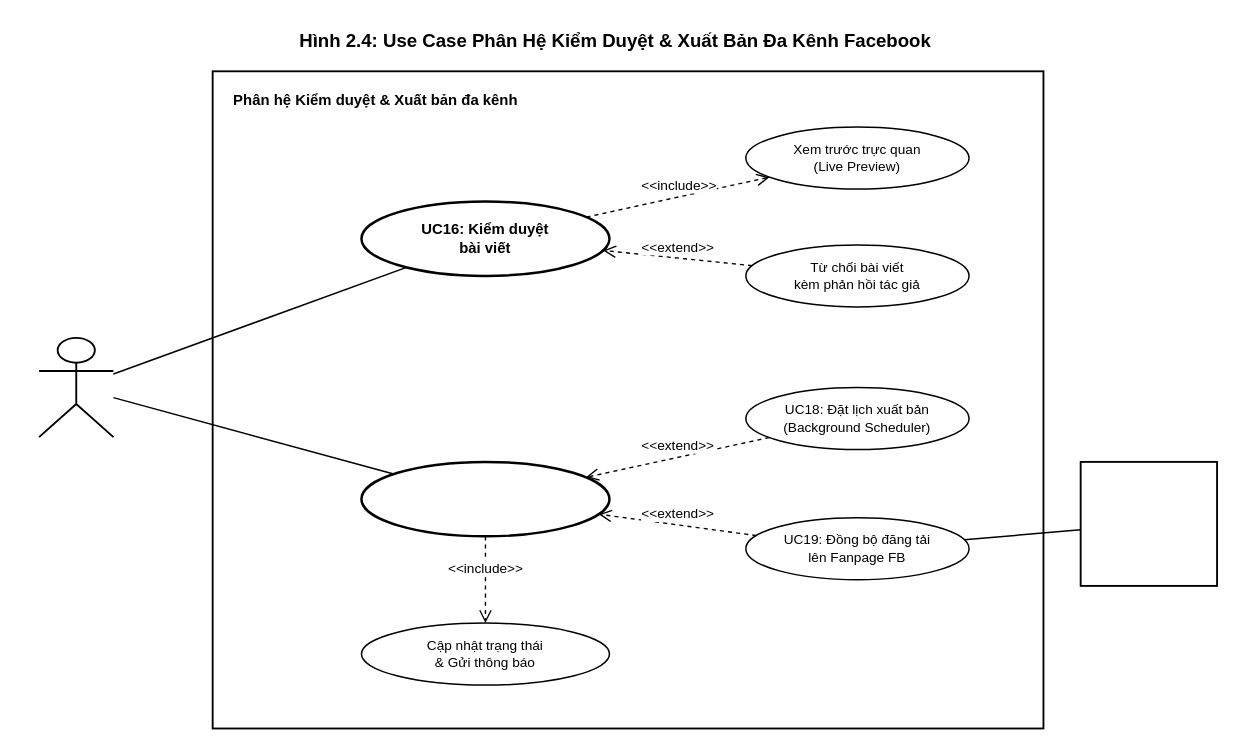
Image size: 1240x750. Some labels were removed from this diagram. The shapes that lost their labels are listed below. From the top down, each one's centre as x and y in pixels, then its label:
At (x=76, y=386): "Biên tập viên / Lãnh đạo duyệt".
At (x=485, y=498): "UC17: Xuất bản bài lên Website".
At (x=1148, y=523): "Meta Facebook Graph API <<Service>>".
